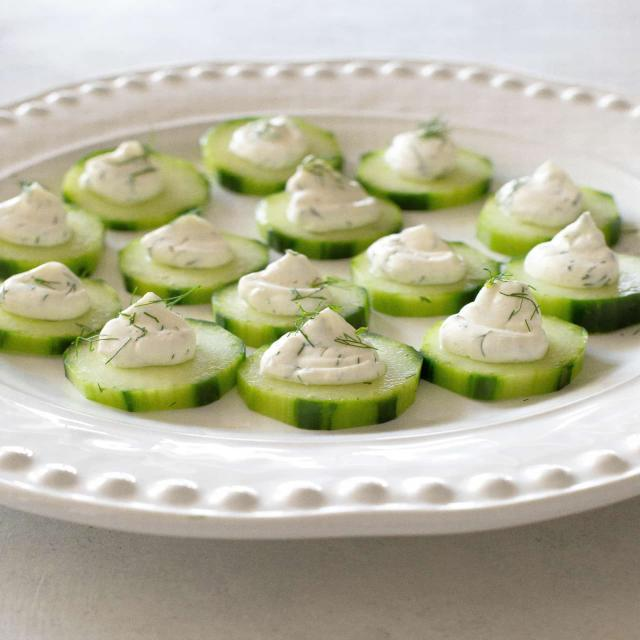Pickle: (237, 332, 423, 430), (64, 319, 245, 411), (420, 315, 589, 401), (62, 141, 209, 230), (119, 232, 269, 305), (506, 254, 640, 332), (256, 191, 403, 259), (0, 279, 122, 355), (350, 252, 484, 317), (356, 149, 492, 210), (0, 205, 105, 279), (211, 283, 297, 348), (476, 196, 564, 256), (579, 186, 621, 244), (325, 276, 370, 329)
